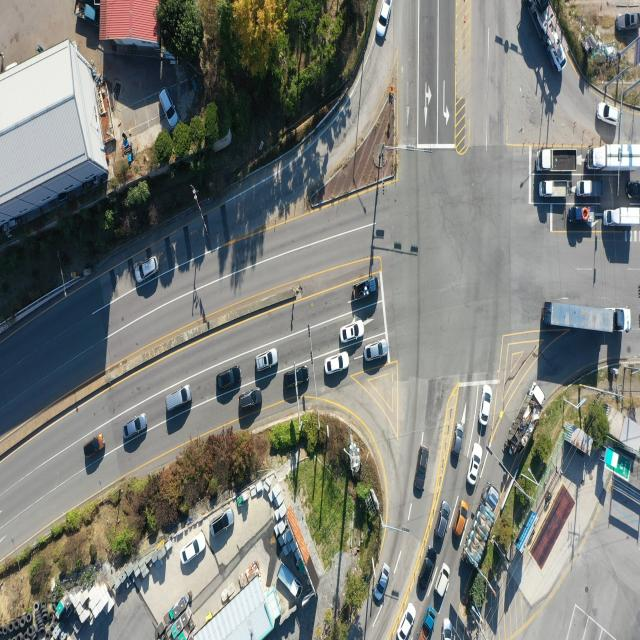car: (180, 529, 204, 568), (157, 83, 178, 124), (168, 383, 194, 411), (420, 551, 437, 592), (214, 365, 241, 390), (134, 258, 158, 286), (399, 603, 417, 640), (211, 508, 234, 536), (415, 446, 429, 492), (374, 564, 390, 604), (323, 351, 349, 375), (124, 414, 148, 440), (283, 365, 309, 389), (377, 0, 393, 38), (340, 320, 365, 344), (438, 500, 453, 540), (254, 348, 278, 372), (468, 444, 482, 485), (596, 102, 619, 126), (455, 500, 469, 539), (238, 388, 262, 410), (364, 341, 388, 363), (452, 424, 464, 468), (84, 435, 106, 458), (482, 385, 494, 426), (438, 564, 452, 599), (616, 11, 640, 30), (626, 181, 640, 199), (443, 619, 455, 640)
large_truck: (541, 304, 629, 337)
medium_truck: (462, 483, 499, 574), (522, 0, 568, 71), (506, 384, 545, 456), (589, 144, 640, 171), (537, 148, 578, 172), (606, 206, 640, 228)
small_truck: (278, 564, 301, 602), (352, 274, 378, 301), (540, 182, 572, 202), (419, 607, 436, 640), (578, 178, 605, 198), (75, 0, 98, 21), (570, 206, 592, 224)
